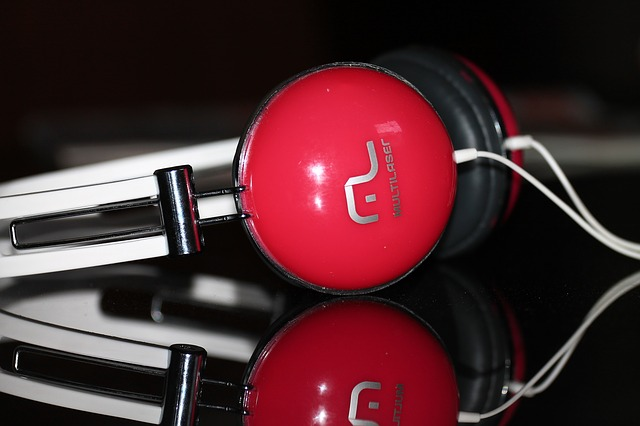headphones: (1, 51, 524, 297)
